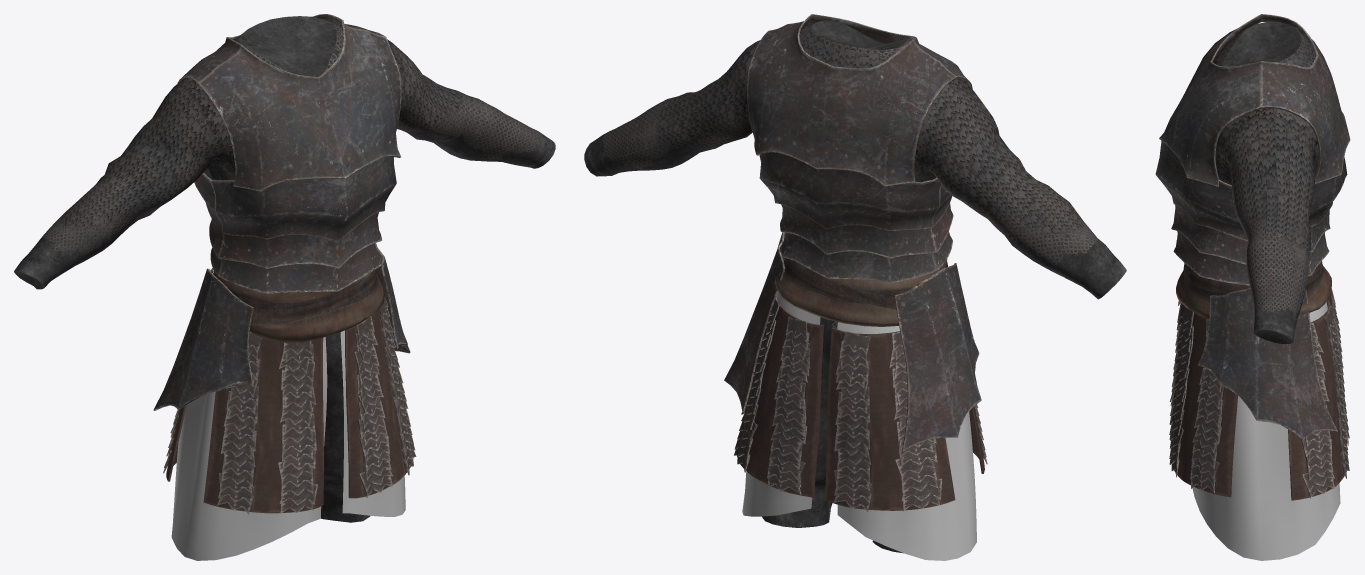
The model's file is sk_dg_uruk_chest_heavy_b.fbx.
The picture shows the model from 3 angles, left to right: view 1: azimuth 30°, elevation 25°; view 2: azimuth 150°, elevation 25°; view 3: azimuth 270°, elevation 25°; orthographic projection. The views are drawn at different scales.
Visible parts, largest first — view 1: sk_dg_uruk_chest_heavy_b.2, sk_dg_uruk_chest_heavy_b.1, sk_dg_uruk_chest_heavy_b.skirt.1, sk_dg_uruk_chest_heavy_b.skirt.0, sk_dg_uruk_chest_heavy_b.skirt.2, sk_dg_uruk_chest_heavy_b.0; view 2: sk_dg_uruk_chest_heavy_b.2, sk_dg_uruk_chest_heavy_b.1, sk_dg_uruk_chest_heavy_b.skirt.1, sk_dg_uruk_chest_heavy_b.skirt.2, sk_dg_uruk_chest_heavy_b.skirt.0, sk_dg_uruk_chest_heavy_b.0; view 3: sk_dg_uruk_chest_heavy_b.2, sk_dg_uruk_chest_heavy_b.1, sk_dg_uruk_chest_heavy_b.skirt.1, sk_dg_uruk_chest_heavy_b.skirt.0, sk_dg_uruk_chest_heavy_b.skirt.2.
Part boxes in pixels (x1,y1,x2,y2): sk_dg_uruk_chest_heavy_b.2: (177, 14, 401, 293); sk_dg_uruk_chest_heavy_b.1: (14, 16, 555, 342); sk_dg_uruk_chest_heavy_b.skirt.1: (163, 296, 416, 514); sk_dg_uruk_chest_heavy_b.skirt.0: (171, 330, 405, 560); sk_dg_uruk_chest_heavy_b.skirt.2: (153, 243, 410, 410); sk_dg_uruk_chest_heavy_b.0: (321, 332, 370, 522); sk_dg_uruk_chest_heavy_b.2: (747, 14, 972, 283); sk_dg_uruk_chest_heavy_b.1: (584, 20, 1126, 326); sk_dg_uruk_chest_heavy_b.skirt.1: (734, 292, 987, 512); sk_dg_uruk_chest_heavy_b.skirt.2: (724, 232, 981, 451); sk_dg_uruk_chest_heavy_b.skirt.0: (742, 292, 976, 560); sk_dg_uruk_chest_heavy_b.0: (762, 317, 903, 553); sk_dg_uruk_chest_heavy_b.2: (1155, 14, 1350, 285); sk_dg_uruk_chest_heavy_b.1: (1176, 21, 1331, 343); sk_dg_uruk_chest_heavy_b.skirt.1: (1169, 288, 1349, 500); sk_dg_uruk_chest_heavy_b.skirt.0: (1180, 302, 1340, 560); sk_dg_uruk_chest_heavy_b.skirt.2: (1198, 288, 1337, 439).
Size of the model in its own units: 1.35 by 0.4491 by 1.2.
